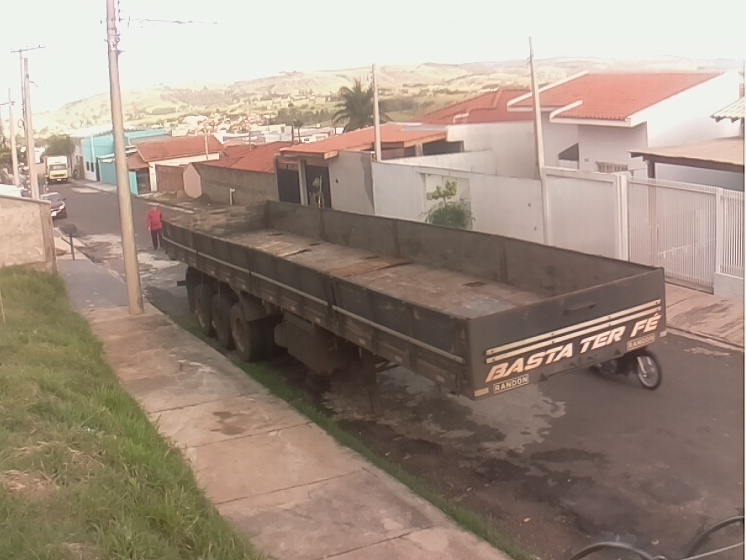person: (144, 203, 168, 251)
